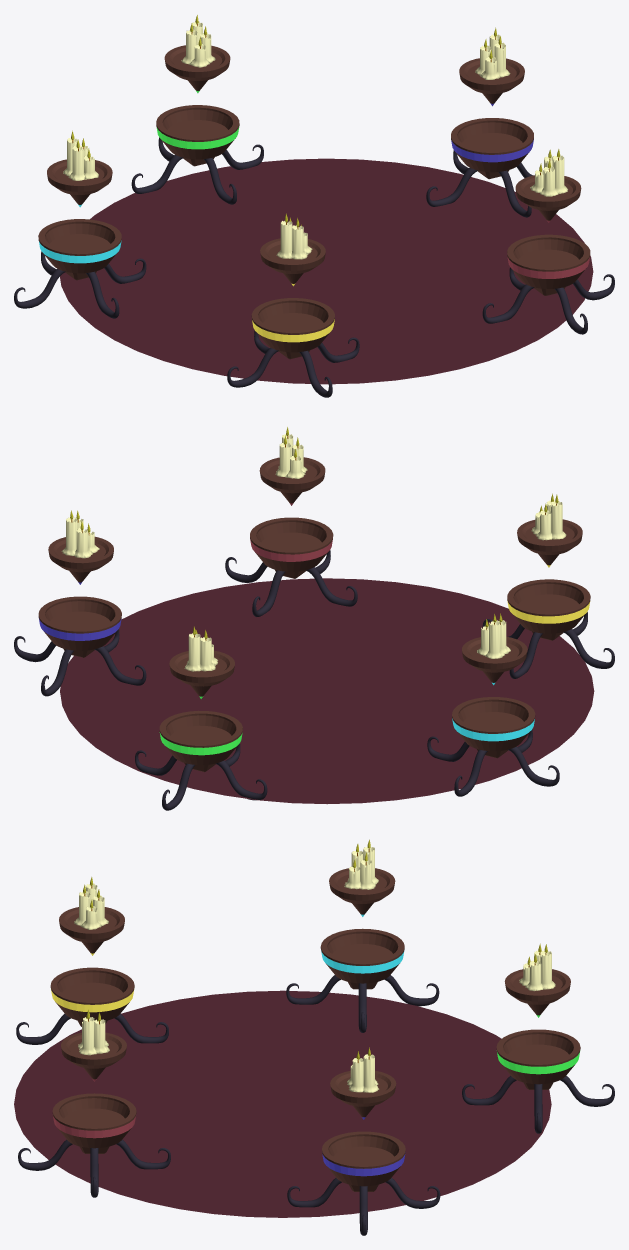
The model's file is Bannkreis.fbx.
The picture shows the model from 3 angles, top to bottom: view 1: azimuth 30°, elevation 25°; view 2: azimuth 150°, elevation 25°; view 3: azimuth 270°, elevation 25°; orthographic projection.
Parts seen in each view (by area): view 1: Plane, Cylinder.002, Cylinder.021, Cylinder.027, Cylinder.015, Cylinder.008, Cylinder, Cylinder.010, Cylinder.025, Cylinder.013, Cylinder.019, BezierCurve.008 (+10 smaller); view 2: Plane, Cylinder.027, Cylinder.008, Cylinder.015, Cylinder.021, Cylinder.002, Cylinder.019, Cylinder.013, Cylinder, Cylinder.025, Cylinder.010, BezierCurve.004 (+10 smaller); view 3: Plane, Cylinder.021, Cylinder.002, Cylinder.008, Cylinder.015, Cylinder.027, Cylinder.019, Cylinder.025, Cylinder.010, Cylinder.013, Cylinder, BezierCurve.001 (+4 smaller).
Boxes of the visible parts, bbox=[...] form: Plane: bbox=[60, 158, 593, 384]; Cylinder.002: bbox=[156, 105, 239, 159]; Cylinder.021: bbox=[507, 234, 590, 288]; Cylinder.027: bbox=[251, 298, 334, 352]; Cylinder.015: bbox=[38, 219, 121, 273]; Cylinder.008: bbox=[451, 118, 533, 172]; Cylinder: bbox=[164, 45, 230, 80]; Cylinder.010: bbox=[459, 58, 524, 93]; Cylinder.025: bbox=[260, 238, 325, 273]; Cylinder.013: bbox=[47, 159, 112, 194]; Cylinder.019: bbox=[515, 175, 581, 210]; BezierCurve.008: bbox=[227, 337, 359, 387]; Plane: bbox=[60, 578, 594, 804]; Cylinder.027: bbox=[507, 579, 590, 633]; Cylinder.008: bbox=[38, 596, 121, 650]; Cylinder.015: bbox=[452, 697, 535, 751]; Cylinder.021: bbox=[250, 517, 333, 571]; Cylinder.002: bbox=[159, 710, 242, 765]; Cylinder.019: bbox=[259, 457, 325, 493]; Cylinder.013: bbox=[462, 636, 527, 672]; Cylinder: bbox=[169, 650, 234, 686]; Cylinder.025: bbox=[517, 519, 582, 554]; Cylinder.010: bbox=[48, 536, 113, 572]; BezierCurve.004: bbox=[427, 736, 559, 786]; Plane: bbox=[14, 990, 551, 1217]; Cylinder.021: bbox=[52, 1093, 136, 1148]; Cylinder.002: bbox=[496, 1029, 580, 1084]; Cylinder.008: bbox=[322, 1131, 405, 1186]; Cylinder.015: bbox=[320, 928, 404, 983]; Cylinder.027: bbox=[50, 967, 134, 1021]; Cylinder.019: bbox=[60, 1032, 126, 1068]; Cylinder.025: bbox=[59, 907, 124, 942]; Cylinder.010: bbox=[330, 1070, 396, 1106]; Cylinder.013: bbox=[329, 868, 395, 903]; Cylinder: bbox=[504, 969, 570, 1004]; BezierCurve.001: bbox=[462, 1075, 614, 1106].
Bounding box in the file's own units: 637 × 183 × 605.
